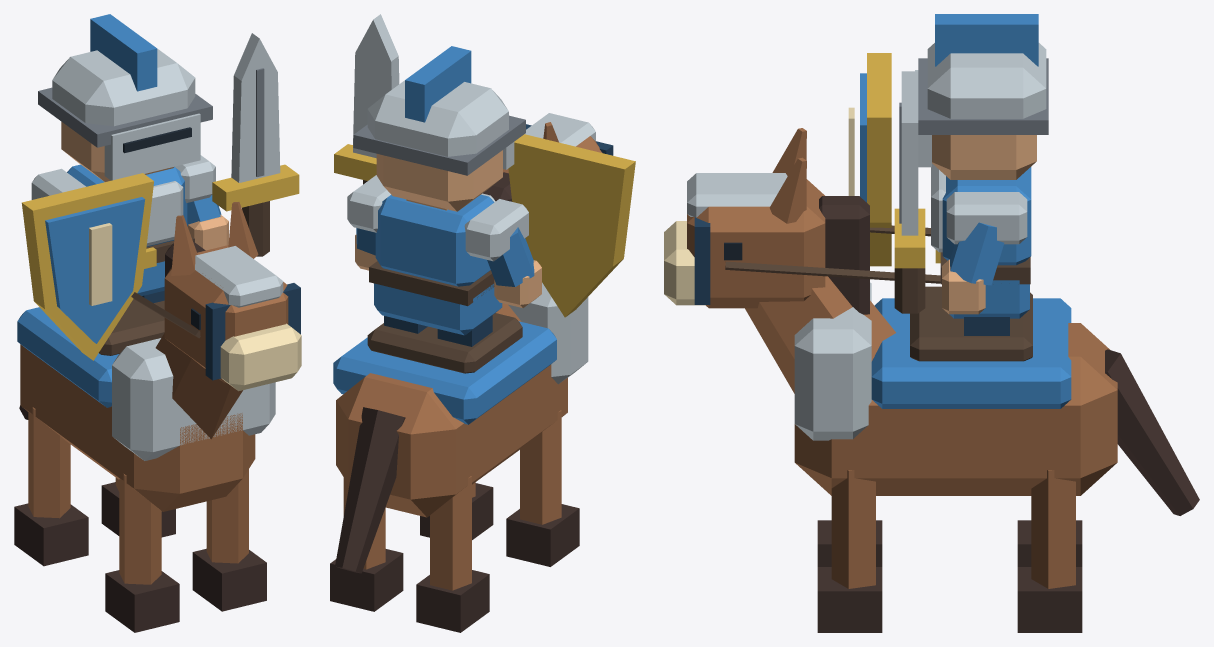
The model's file is u_knight.glb.
The picture shows the model from 3 angles, left to right: view 1: azimuth 30°, elevation 25°; view 2: azimuth 150°, elevation 25°; view 3: azimuth 270°, elevation 25°; orthographic projection. The views are drawn at different scales.
Parts seen in each view (by area): view 1: u_knight; view 2: u_knight; view 3: u_knight.
Part boxes in pixels (box(x1,y1,x2,y2)): u_knight: box(14, 14, 301, 632); u_knight: box(330, 14, 635, 632); u_knight: box(664, 14, 1199, 632).
Size of the model in its own units: 0.23 by 0.415 by 0.3486.
